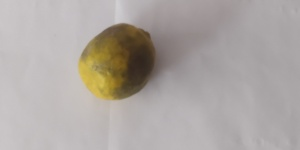BAD: (74, 21, 157, 101)
